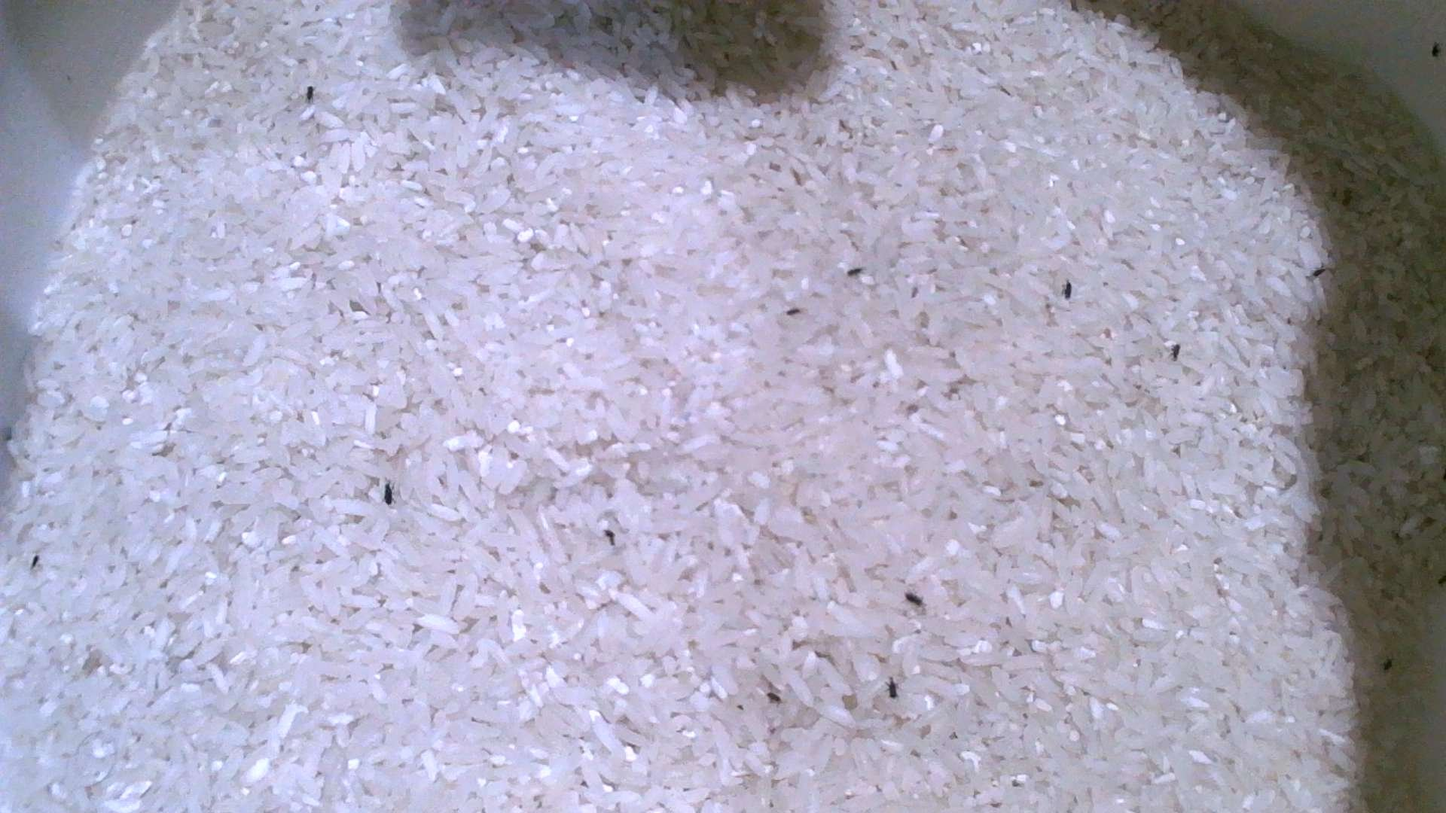Sitophilus-Oryzae: (904, 591, 924, 607), (1310, 265, 1330, 277), (383, 483, 392, 504), (888, 678, 897, 698), (1063, 282, 1072, 299), (1431, 42, 1441, 57), (767, 691, 780, 702), (1172, 344, 1181, 359), (306, 86, 314, 102)
